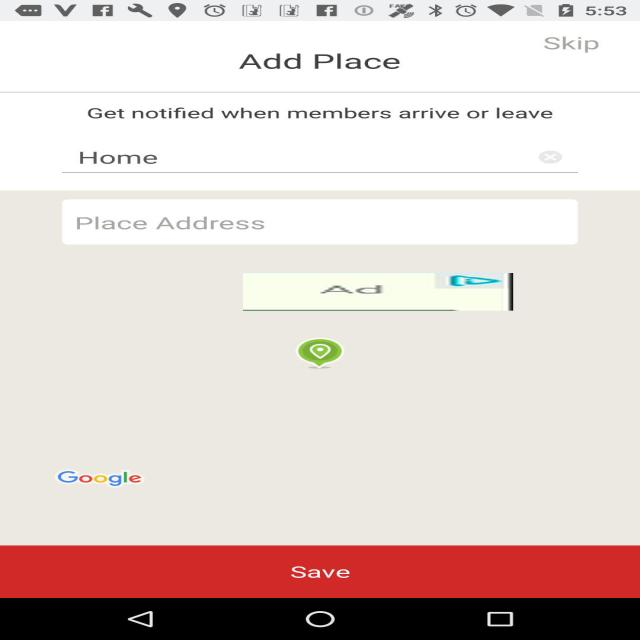sneaking: (243, 273, 513, 311)
